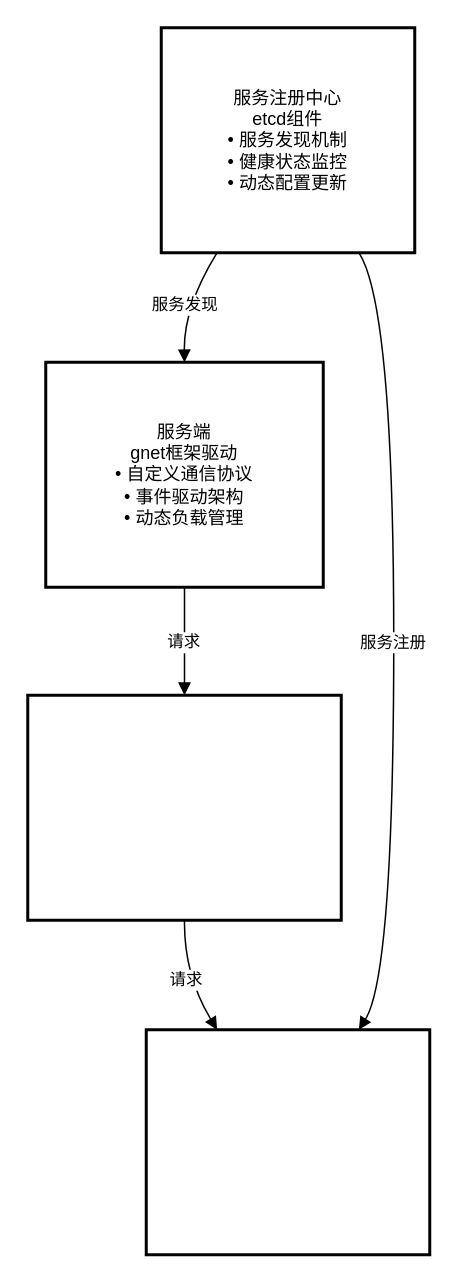
Image size: 456x1281. Some labels were removed from this diagram. The centre of each missing label's shape, as x and y in pixels:
"客户端 Golang网络库实现 • 高并发请求处理 • 智能请求路由 • 负载均衡策略" goes at point (287, 1142).
"核心存储节点 LSM-Tree架构 • MemTable写入优化 • SSTable分层存储 • Golang并发控制" goes at point (184, 807).
